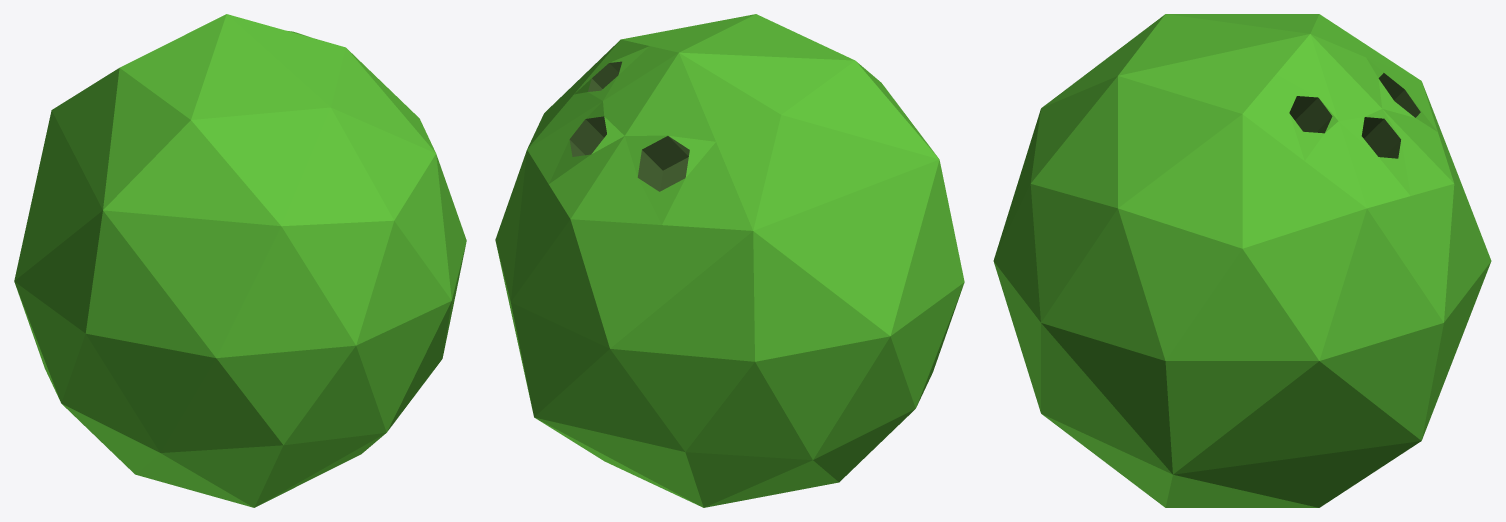
File: ENVI_LV2-3_Kelapa_001.fbx
The picture shows the model from 3 angles, left to right: view 1: azimuth 30°, elevation 25°; view 2: azimuth 150°, elevation 25°; view 3: azimuth 270°, elevation 25°; orthographic projection. The views are drawn at different scales.
Visible parts, largest first — view 1: Kelapa.001; view 2: Kelapa.001; view 3: Kelapa.001.
Boxes of the visible parts, box(x1,y1,x2,y2) form: Kelapa.001: box(14, 14, 466, 507); Kelapa.001: box(495, 14, 964, 507); Kelapa.001: box(993, 14, 1491, 507).
Bounding box in the file's own units: 36.31 × 39.99 × 38.17.
